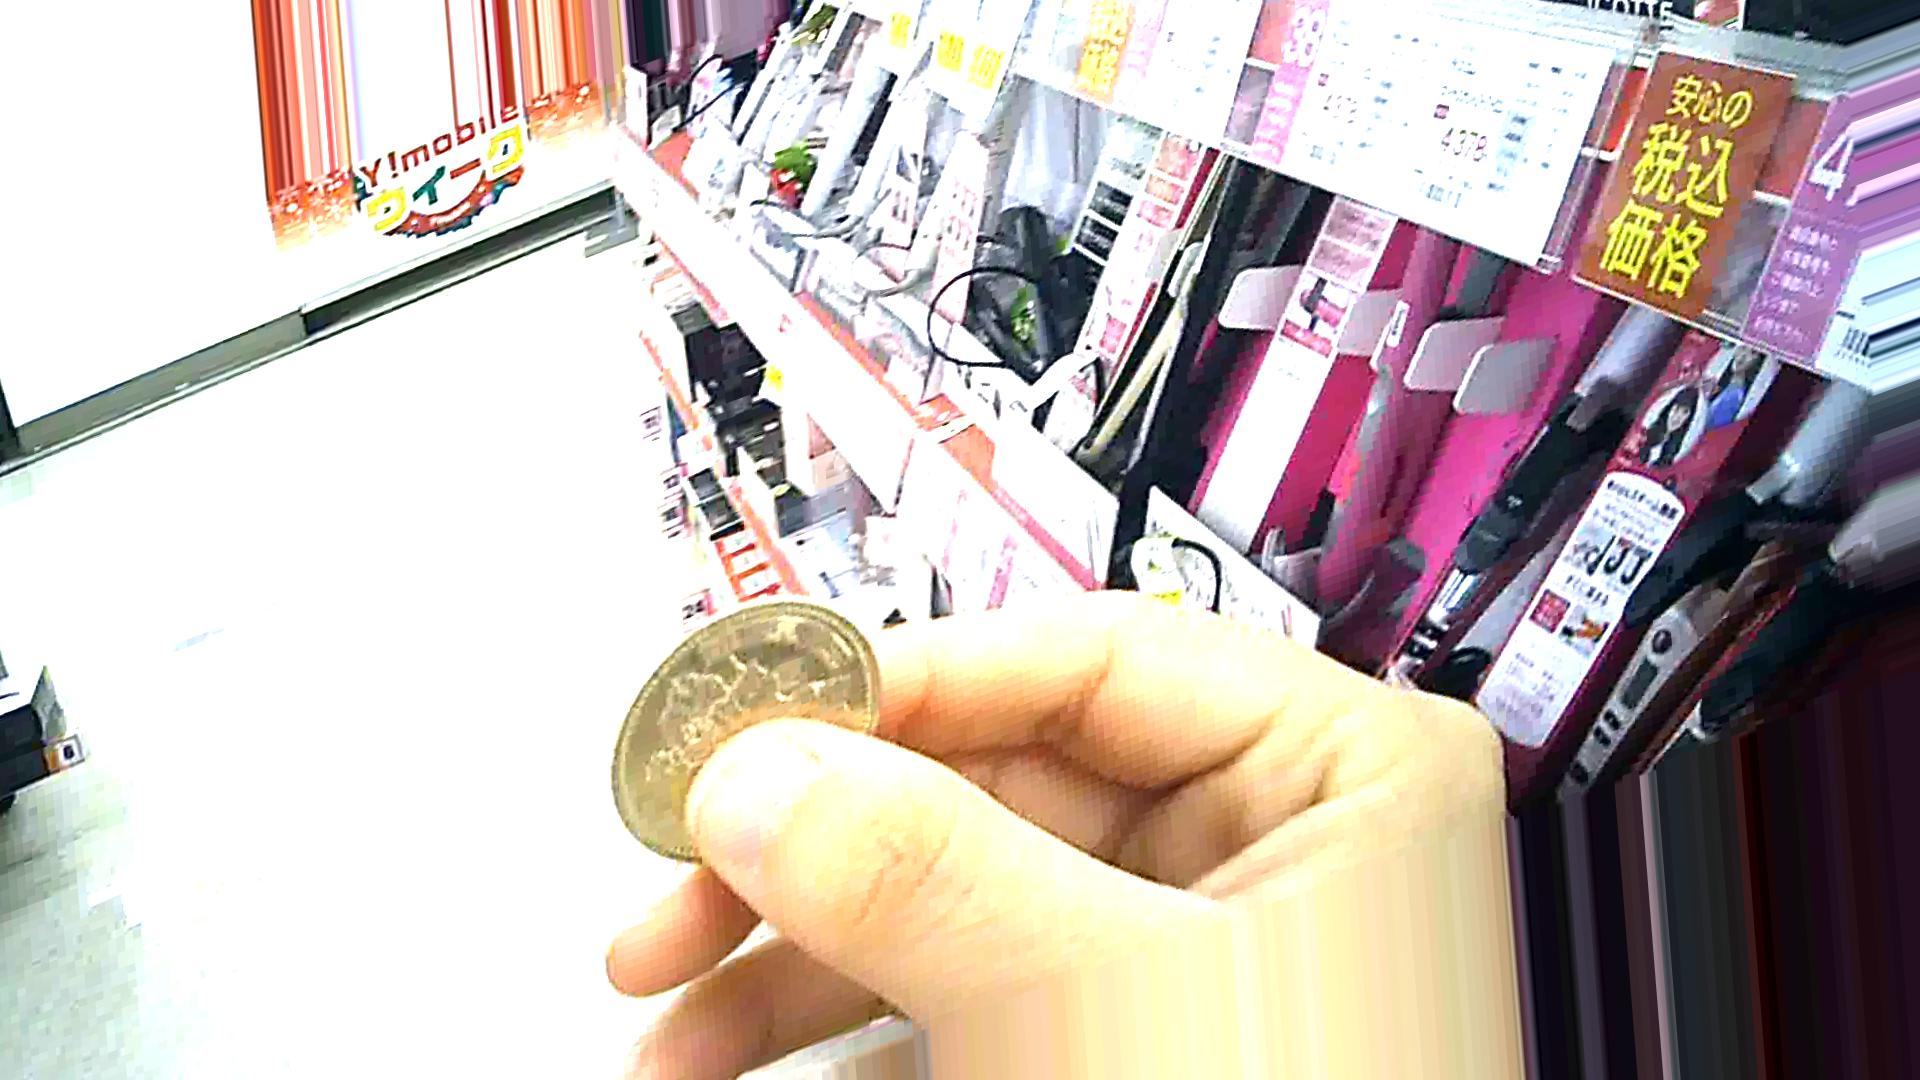500 Yen: (564, 585, 874, 841)
